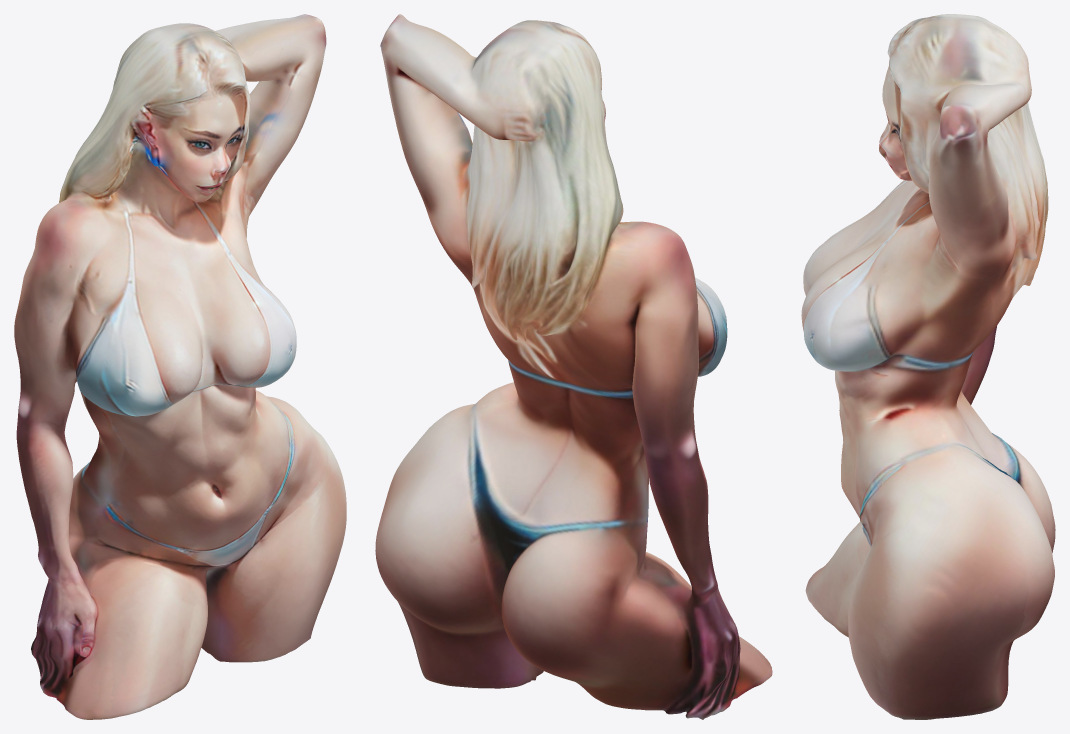
The picture shows the model from 3 angles, left to right: view 1: azimuth 30°, elevation 25°; view 2: azimuth 150°, elevation 25°; view 3: azimuth 270°, elevation 25°; orthographic projection. The views are drawn at different scales.
Parts seen in each view (by area): view 1: tripo_node_dfe41be6-2578-435e-b147-7c1454e10eac_0; view 2: tripo_node_dfe41be6-2578-435e-b147-7c1454e10eac_0; view 3: tripo_node_dfe41be6-2578-435e-b147-7c1454e10eac_0.
Boxes of the visible parts, x1,y1,x2,y2 form: tripo_node_dfe41be6-2578-435e-b147-7c1454e10eac_0: [14, 14, 346, 719]; tripo_node_dfe41be6-2578-435e-b147-7c1454e10eac_0: [375, 14, 772, 719]; tripo_node_dfe41be6-2578-435e-b147-7c1454e10eac_0: [801, 14, 1055, 719].
Size of the model in its own units: 0.4747 by 0.9103 by 0.3221.
1 material, 1 textured.
